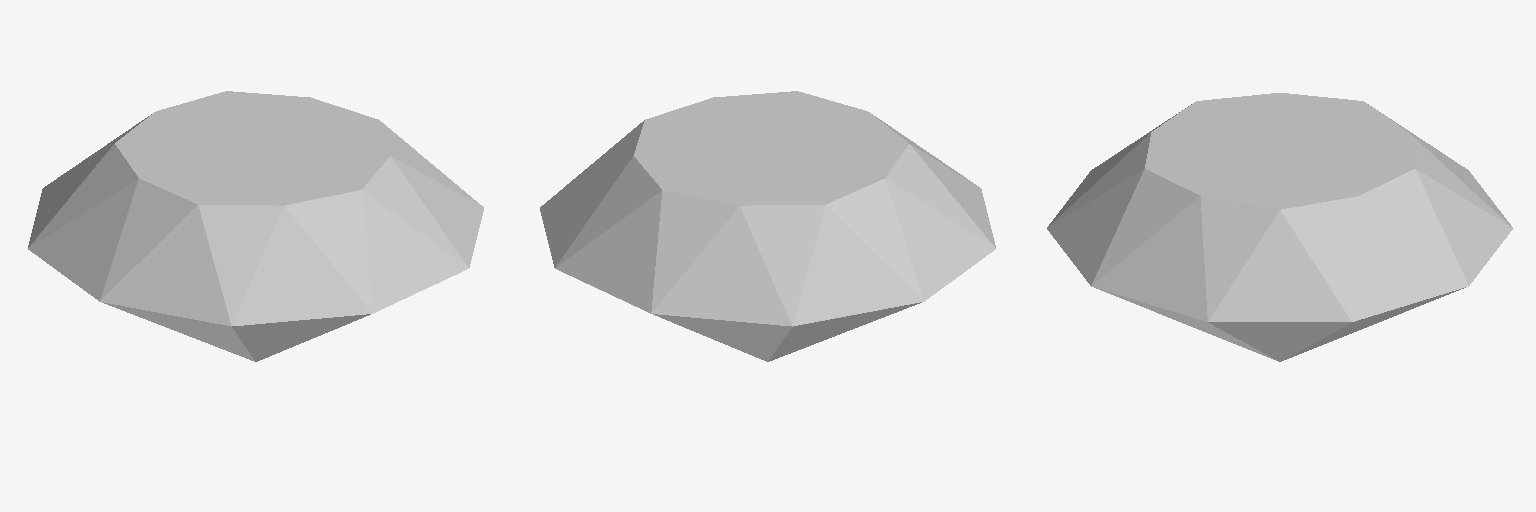
Rendered from fragment.obj.
3 renders of one model, left to right at view 1: azimuth 30°, elevation 25°; view 2: azimuth 150°, elevation 25°; view 3: azimuth 270°, elevation 25°, orthographic.
Visible parts, largest first — view 1: Icosphere; view 2: Icosphere; view 3: Icosphere.
Part boxes in pixels (bbox=[...]): Icosphere: bbox=[28, 91, 483, 361]; Icosphere: bbox=[540, 91, 995, 361]; Icosphere: bbox=[1047, 93, 1512, 361].
Bounding box in the file's own units: 1.9 × 1 × 2.